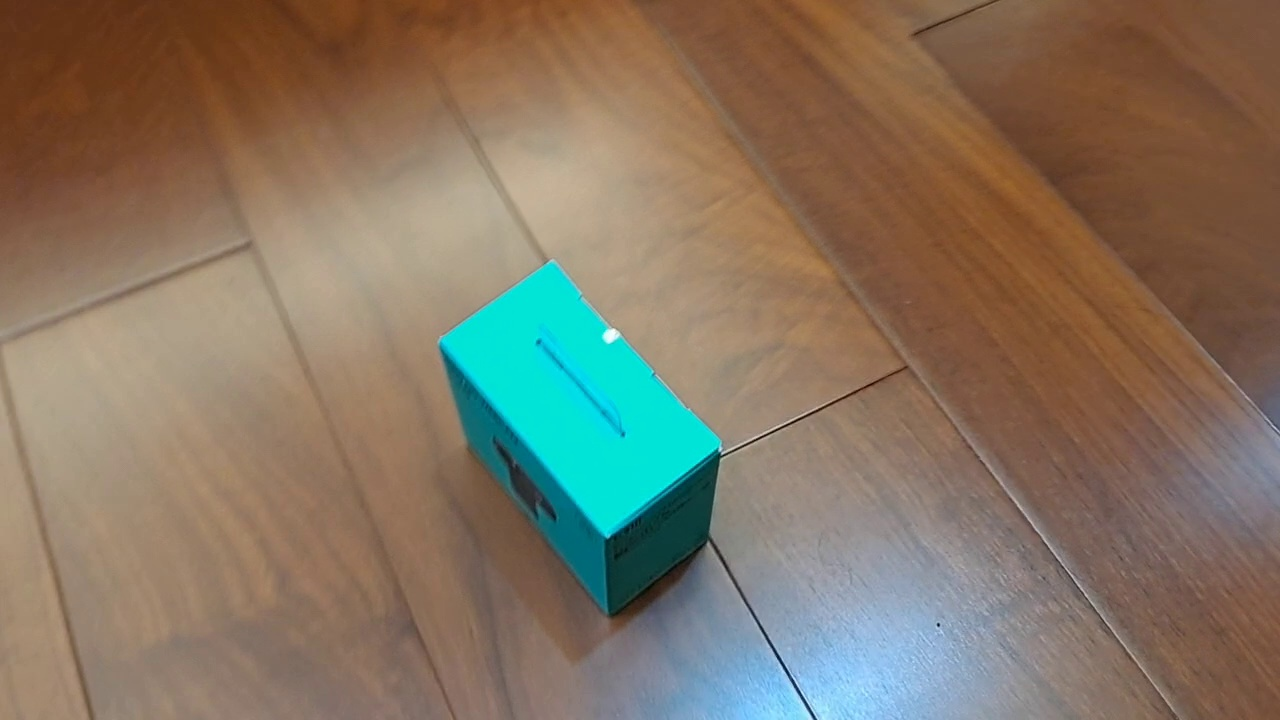webcam: (437, 258, 724, 619)
